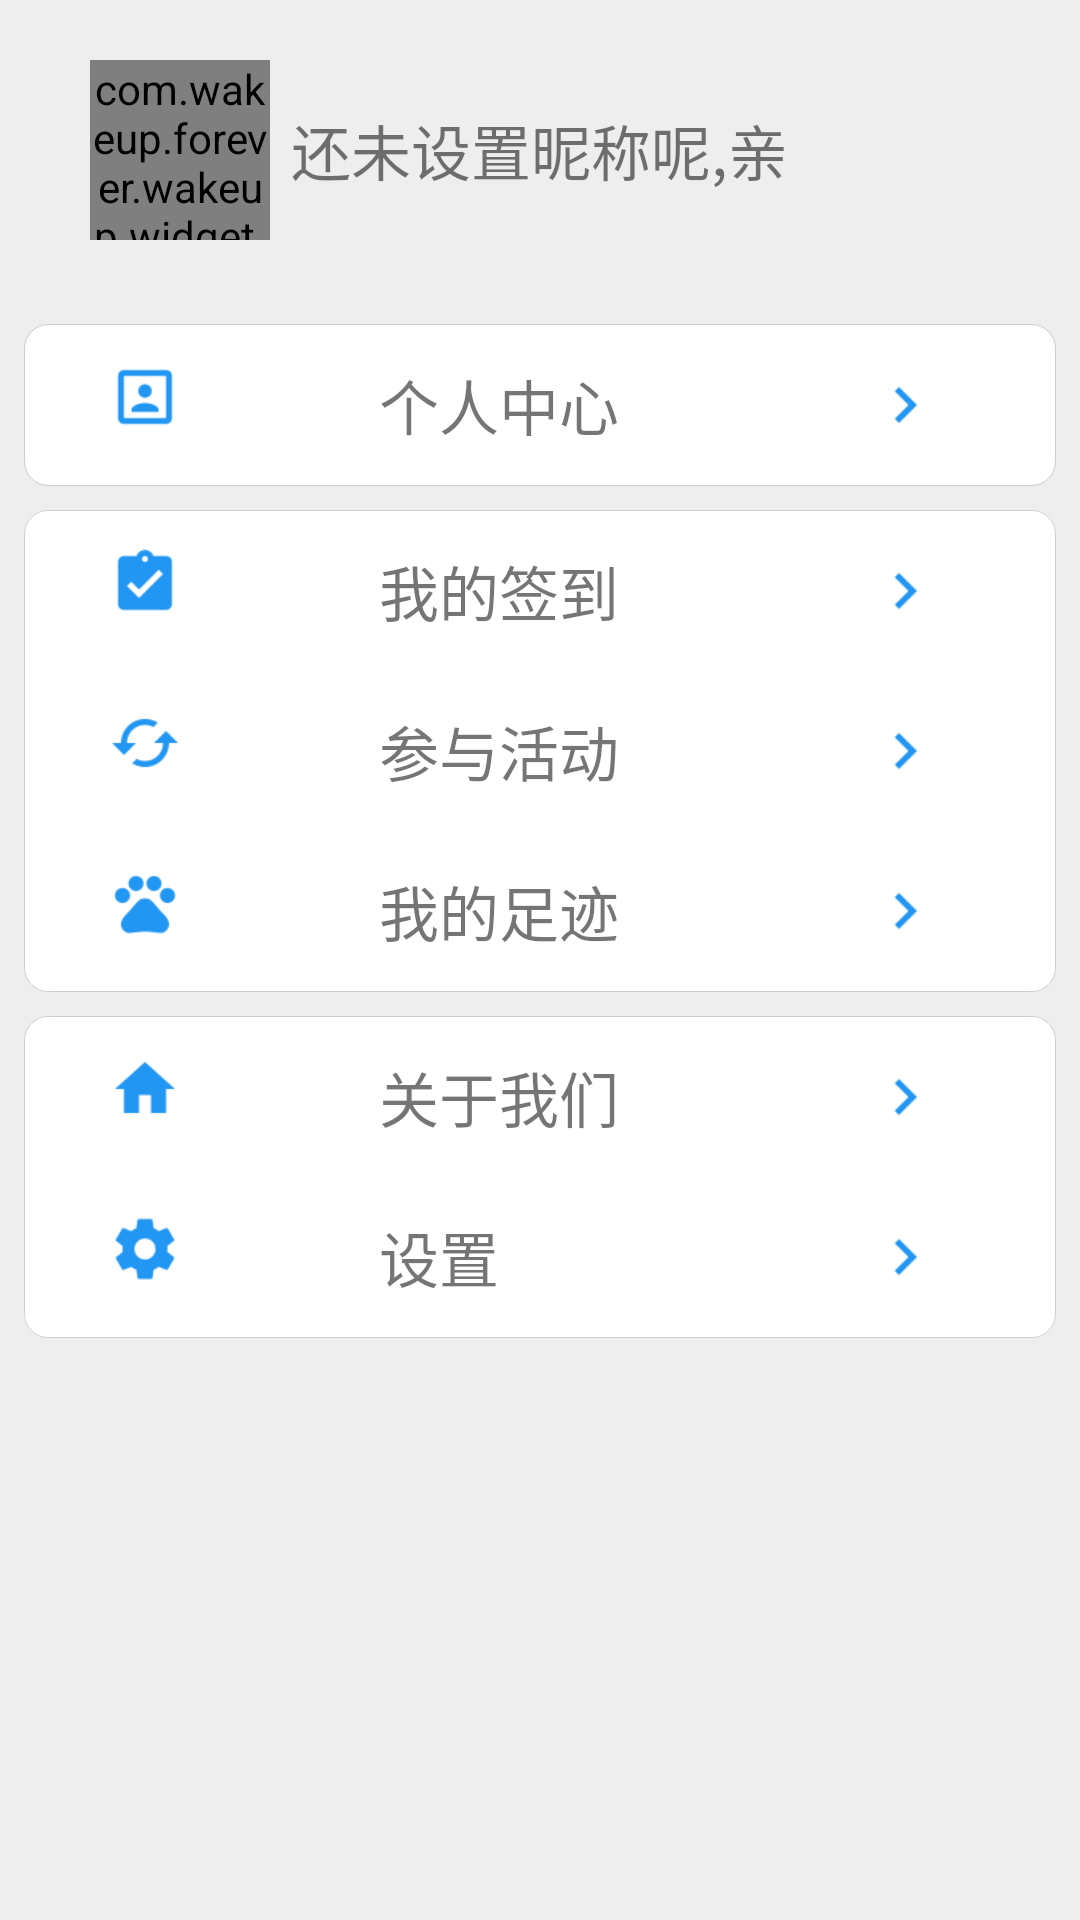

Locate icon controls on the screen. Image size 1080×1920, boxes as (x1, y1, x2, y2).
footmark: (114, 875, 176, 934)
right: (894, 387, 917, 423), (894, 573, 917, 609), (894, 733, 917, 769), (894, 893, 917, 929), (894, 1079, 917, 1115), (894, 1239, 917, 1275)
setting: (115, 1218, 175, 1280)
sign in: (117, 549, 173, 611)
user center: (117, 369, 173, 425)
